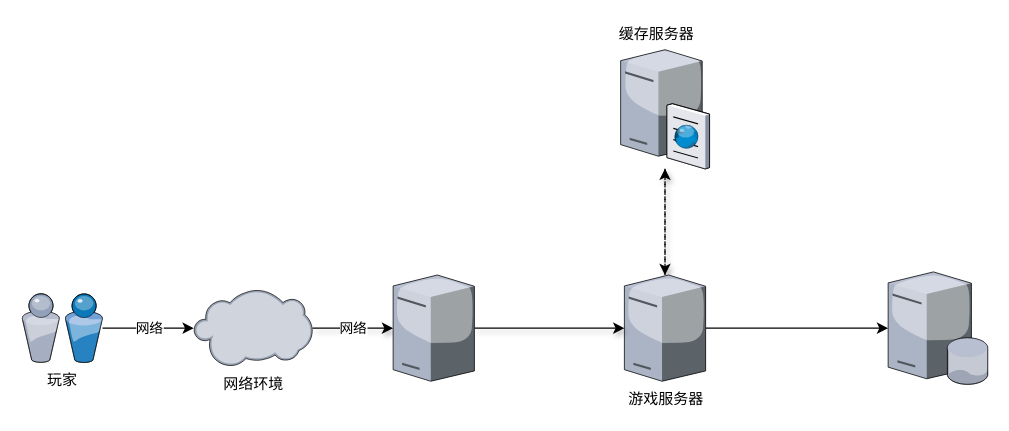
Some shapes in this 1009 by 431 pixel diagram are drawn without their labels. The shapes that lost their labels are listed below. From the top down, each one's centre as x and y in pixels, then its label:
At point (433, 327): "网关服务器".
At point (938, 327): "数据库服务器".
